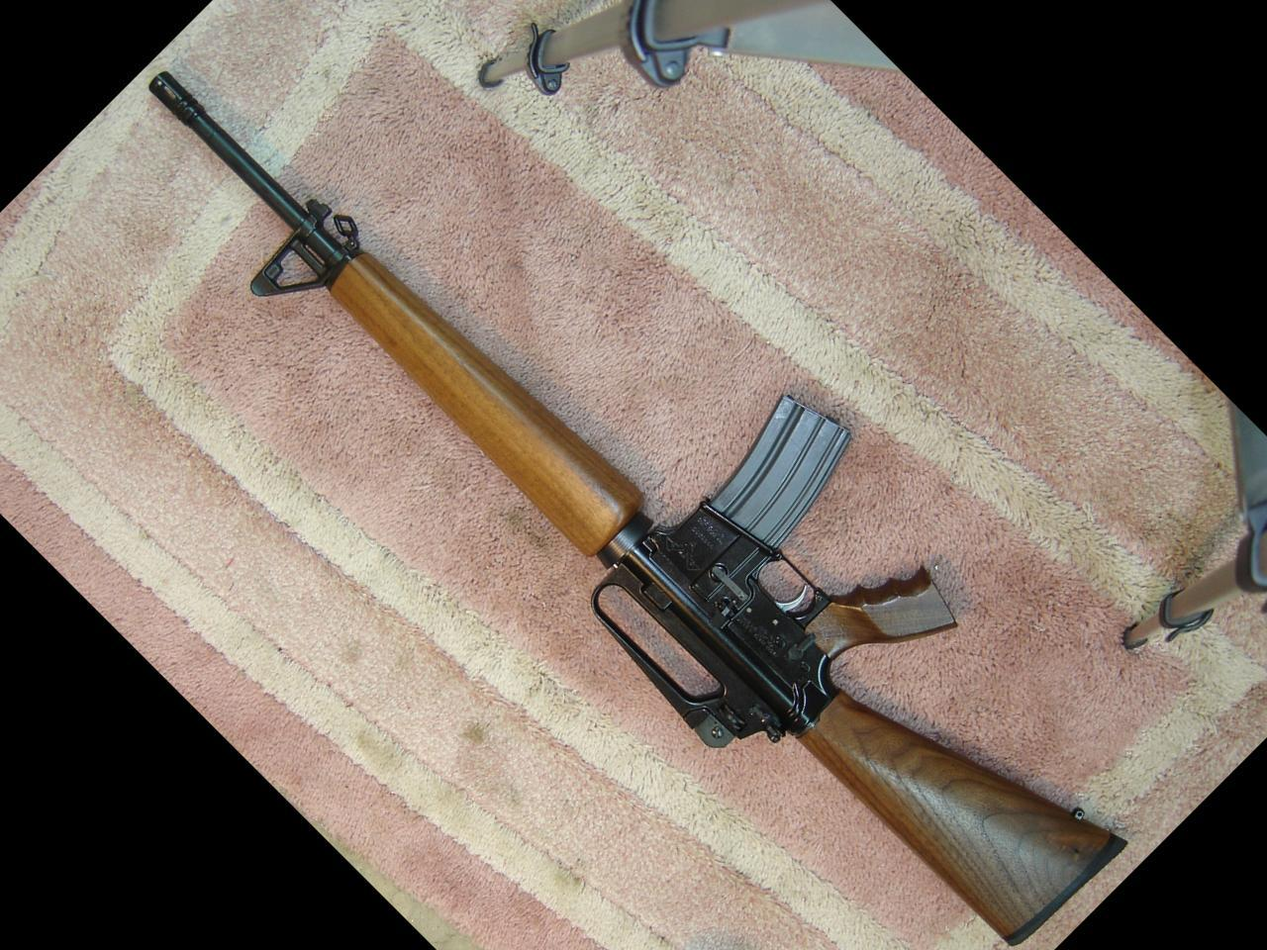larga: (147, 67, 1131, 950)
